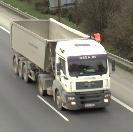truck: (11, 19, 111, 111)
